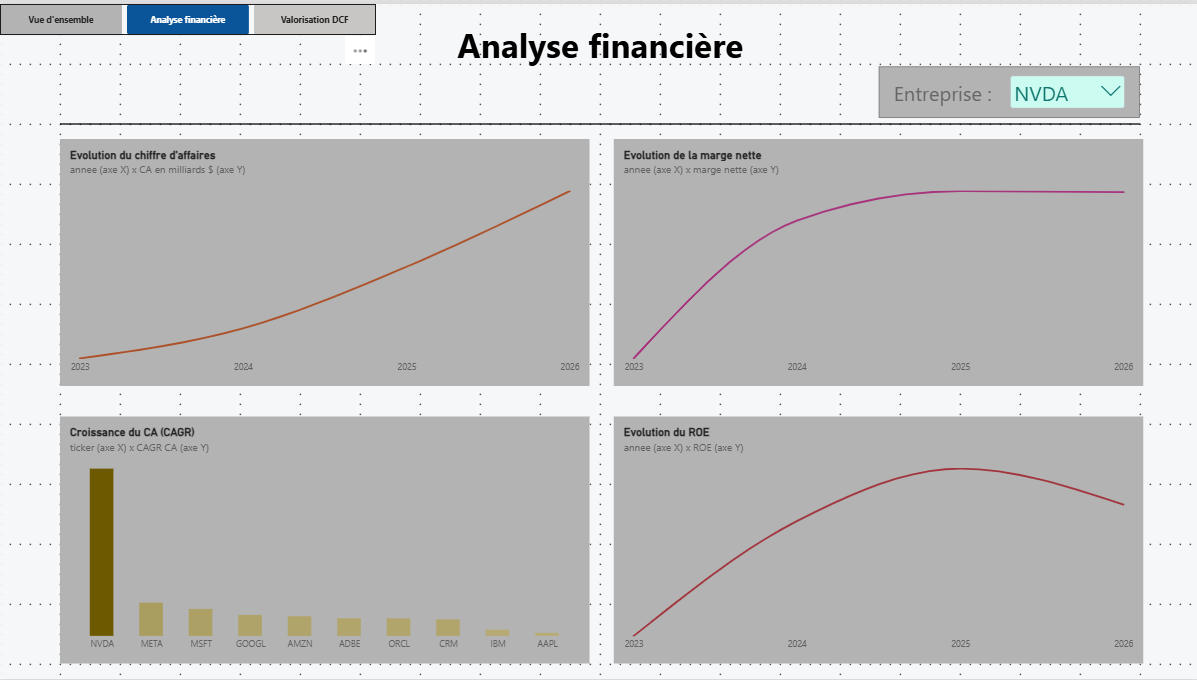

What the dashboard file says about the page in this screenshot:
{"tool":"powerbi","page":{"name":"Analyse financière","canvas":[1920,1080],"ordinal":1},"visuals":[{"type":"shape","box":[96,168,1728,48],"z":0},{"type":"shape","box":[1405,100,417.5,82],"z":1000},{"type":"lineChart","title":"Evolution du chiffre d''affaires","fields":{"Category":["public ratios_financiers.date.Variation.Hiérarchie de dates.Année"],"Y":["Sum(public ratios_financiers.CA)"]},"box":[95,215,847.5,395],"z":2000},{"type":"slicer","fields":{"Values":["public ratios_financiers.ticker"]},"box":[1612.5,109.1,192,65.6],"z":3000},{"type":"textbox","box":[1429,120.3,168,43.7],"z":4000},{"type":"columnChart","title":"Croissance du CA (CAGR)","fields":{"Category":["public cagr_ca.ticker"],"Y":["Sum(public cagr_ca.CAGR CA)"]},"box":[95,660,847.5,395],"z":5000},{"type":"lineChart","title":"Evolution de la marge nette","fields":{"Category":["public ratios_financiers.date.Variation.Hiérarchie de dates.Année"],"Y":["Sum(public ratios_financiers.Marge nette)"]},"box":[982.5,215,847.5,395],"z":6000},{"type":"lineChart","title":"Evolution du ROE","fields":{"Category":["public ratios_financiers.date.Variation.Hiérarchie de dates.Année"],"Y":["Sum(public ratios_financiers.ROE)"]},"box":[982.5,660,847.5,395],"z":8000},{"type":"pageNavigator","box":[0,0,602.5,50],"z":8001},{"type":"textbox","box":[497.5,27.5,925,82.5],"z":8002}]}

Visuals, with their boxes in screenshot pixels (x1, y1, x2, y2), scaled from the page's 1920x1080 canvas onto the 1197x680 screenshot:
shape: bbox(60, 106, 1137, 136)
shape: bbox(876, 63, 1136, 115)
"Evolution du chiffre d''affaires" lineChart: bbox(59, 135, 588, 384)
slicer - public ratios_financiers.ticker: bbox(1005, 69, 1125, 110)
textbox: bbox(891, 76, 996, 103)
"Croissance du CA (CAGR)" columnChart: bbox(59, 416, 588, 664)
"Evolution de la marge nette" lineChart: bbox(613, 135, 1141, 384)
"Evolution du ROE" lineChart: bbox(613, 416, 1141, 664)
pageNavigator: bbox(0, 0, 376, 31)
textbox: bbox(310, 17, 887, 69)
